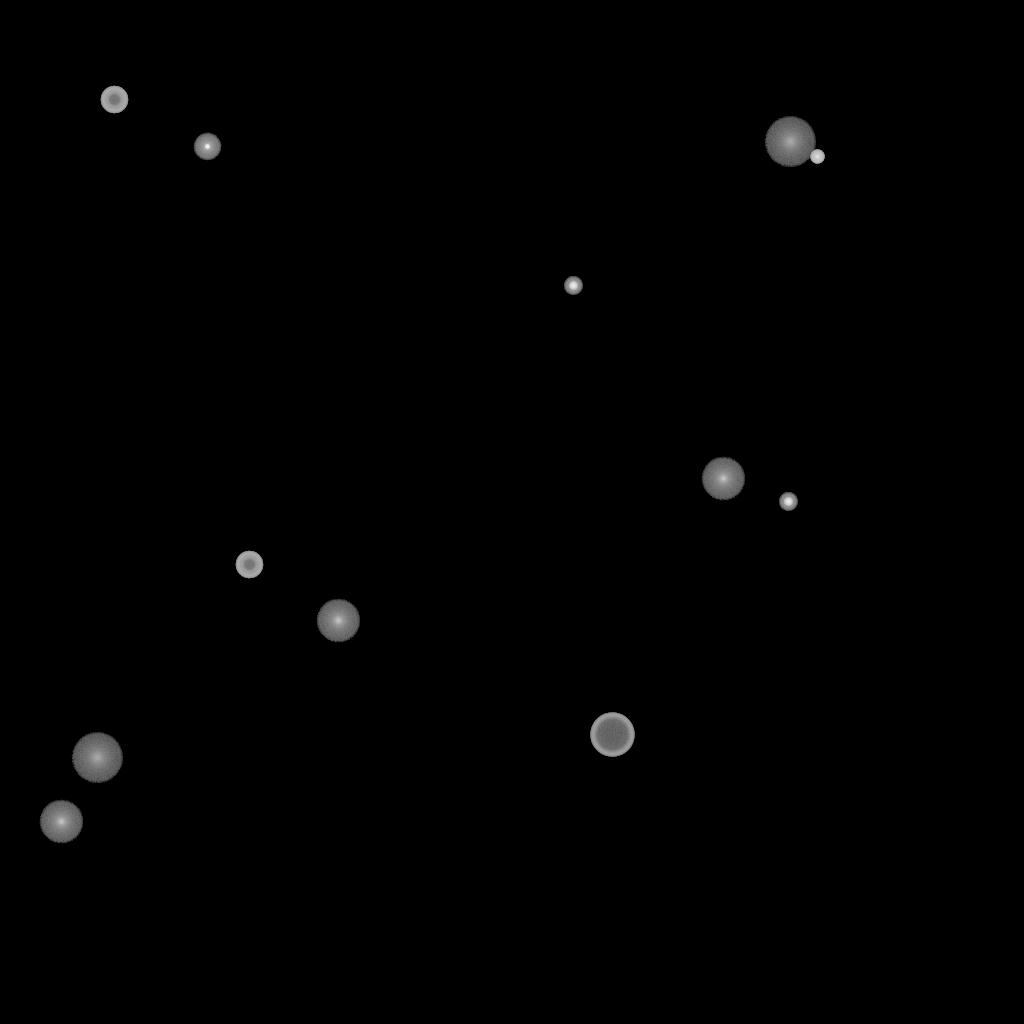depth:-10: (193, 133, 221, 161)
depth:-20: (779, 493, 797, 511), (564, 277, 582, 295)
depth:-30: (810, 150, 824, 164)
depth:-50: (235, 551, 263, 579), (100, 86, 128, 114)
depth:-70: (590, 713, 634, 757)
depth:10: (39, 800, 83, 844), (316, 599, 360, 643), (701, 457, 745, 501)
depth:20: (764, 117, 816, 167), (71, 733, 123, 783)
